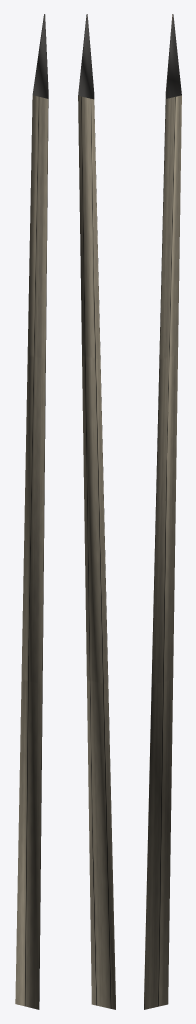
File: Pike_Stake_1_LOD2.gltf
3 views of the same model, side by side, from view 1: azimuth 30°, elevation 25°; view 2: azimuth 150°, elevation 25°; view 3: azimuth 330°, elevation 25° (orthographic).
Parts seen in each view (by area): view 1: Pike_Stake_1_LOD2; view 2: Pike_Stake_1_LOD2; view 3: Pike_Stake_1_LOD2.
Boxes of the visible parts, <box> form: Pike_Stake_1_LOD2: <box>15,14,48,1009</box>; Pike_Stake_1_LOD2: <box>78,14,115,1009</box>; Pike_Stake_1_LOD2: <box>144,14,181,1009</box>.
Bounding box in the file's own units: 0.1149 × 3.05 × 0.08.
Materials: 2 (2 with a texture image).
